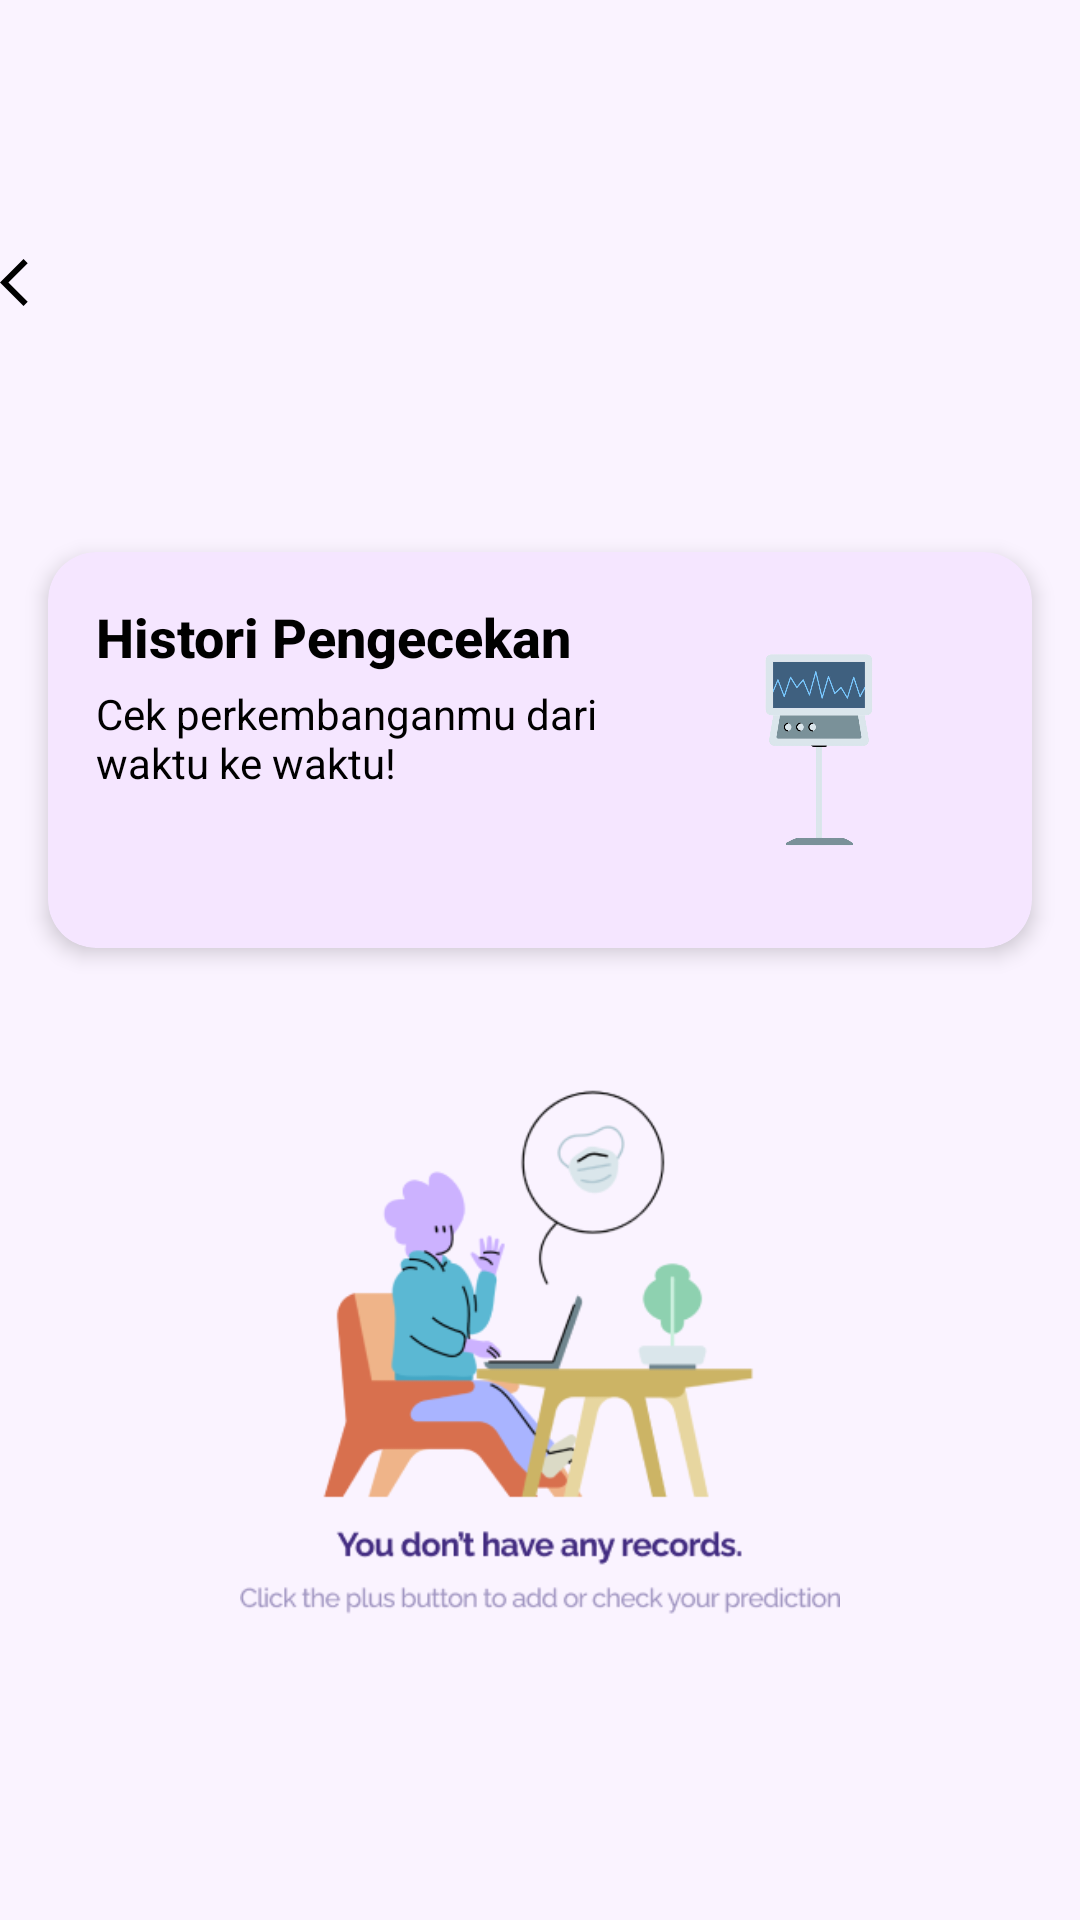

Point at icon controls on the screen. Image size 1080w x 1920h, points as point (x, y).
Kembali: point (14, 282)
